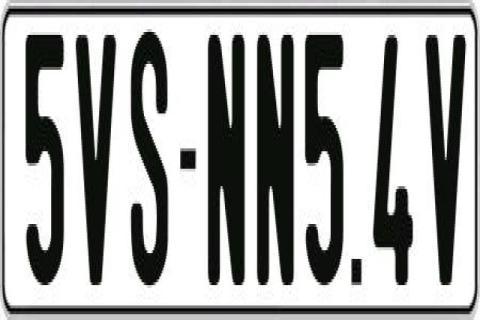0: (24, 26, 64, 294), (302, 35, 342, 303), (372, 27, 412, 280)
N: (254, 29, 295, 279), (206, 35, 244, 299)
S: (130, 32, 174, 302)
V: (74, 26, 114, 294), (425, 35, 462, 291)
